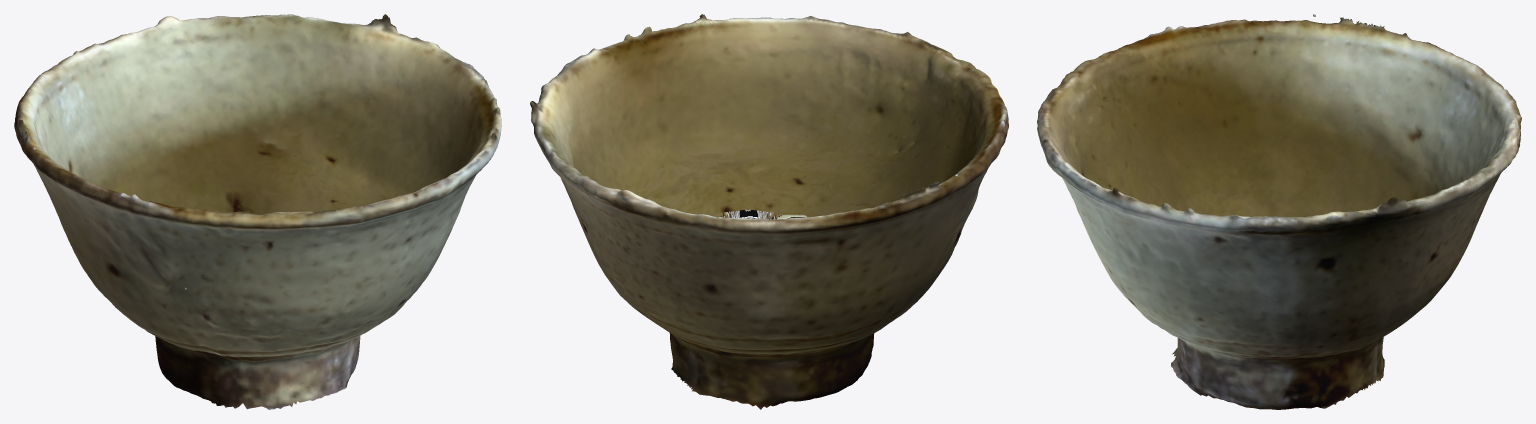
File: wan210118+++.glb
3 renders of one model, left to right at view 1: azimuth 30°, elevation 25°; view 2: azimuth 150°, elevation 25°; view 3: azimuth 270°, elevation 25°, orthographic.
Visible parts, largest first — view 1: model; view 2: model; view 3: model.
Boxes of the visible parts, x1,y1,x2,y2 form: model: (14,14,501,409); model: (530,14,1008,409); model: (1037,14,1521,409).
Bounding box in the file's own units: 1.39 × 0.8444 × 1.39.
Materials: 1 (1 with a texture image).
